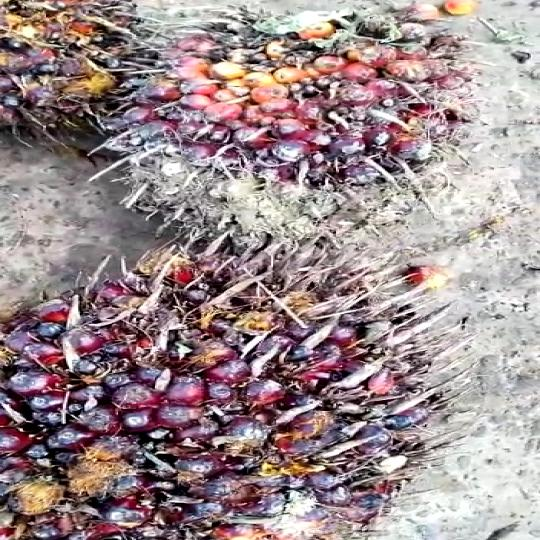masak: (0, 225, 500, 539), (101, 0, 513, 251)
